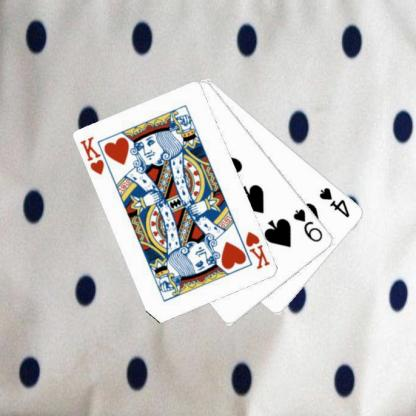4S: (317, 184, 351, 219)
9S: (290, 206, 324, 244)
KH: (242, 228, 272, 271), (78, 134, 106, 176)
